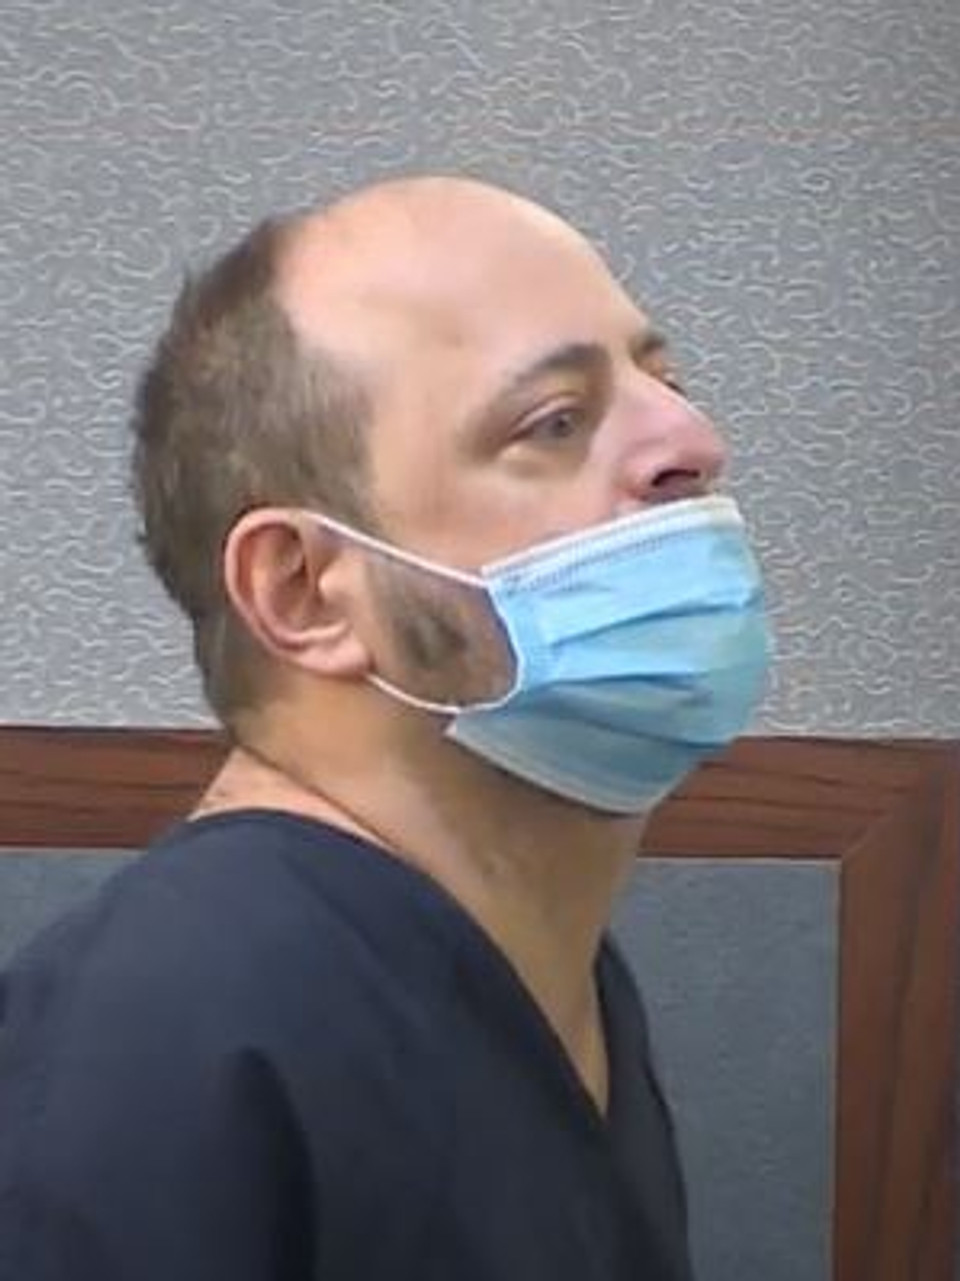nose_out: (141, 173, 776, 824)
